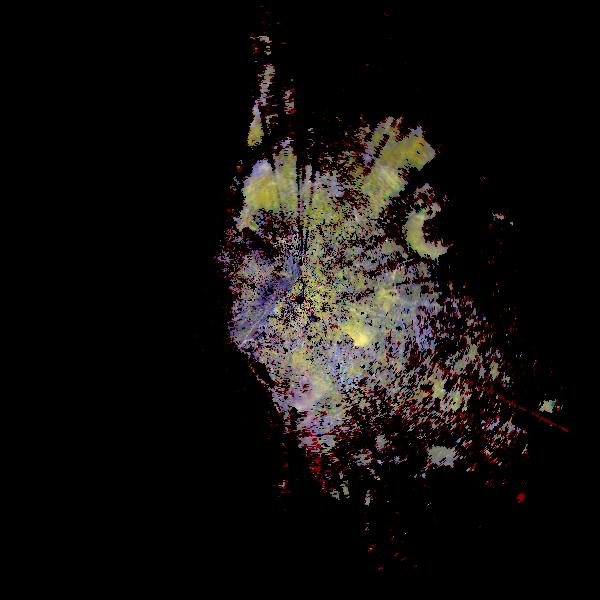roost: (266, 339, 344, 417), (368, 253, 443, 328), (404, 198, 476, 270), (236, 164, 305, 233), (418, 440, 472, 494), (338, 317, 377, 356)
